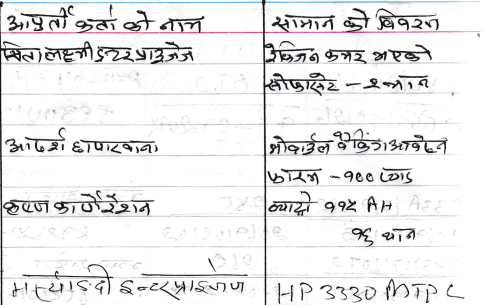text: (119, 258, 248, 301), (11, 262, 113, 302), (53, 189, 153, 217), (265, 72, 339, 97), (4, 127, 67, 156), (6, 4, 73, 31), (71, 137, 160, 156), (269, 131, 332, 157), (263, 38, 321, 66), (374, 7, 442, 30), (387, 133, 449, 158), (332, 128, 388, 155), (271, 12, 336, 34), (135, 41, 194, 65), (267, 189, 314, 217), (371, 43, 433, 64), (75, 5, 119, 34), (42, 40, 95, 64), (265, 166, 323, 186), (1, 39, 43, 66), (2, 196, 52, 216), (93, 43, 133, 66), (382, 73, 433, 90), (160, 16, 203, 36), (342, 7, 373, 33), (377, 166, 417, 185), (324, 47, 366, 65), (379, 225, 417, 243), (123, 10, 151, 34), (322, 196, 359, 214), (343, 168, 375, 185), (349, 226, 374, 247), (364, 75, 379, 94)
